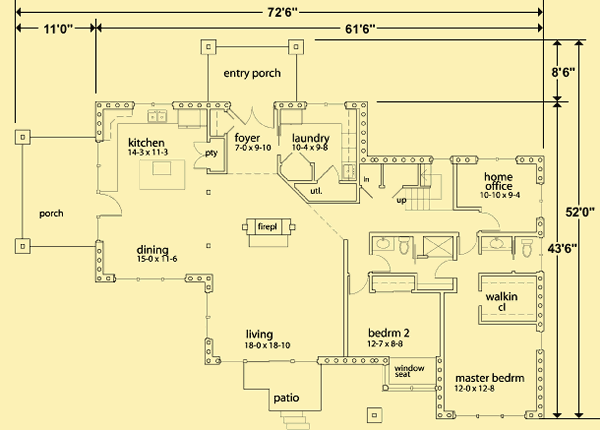bathroom has a small and large sink with shower room: (368, 231, 460, 295)
kitchen has a kitchen bar with cooking range and sink: (95, 98, 212, 204)
laundry room has a washer and dryer: (272, 99, 359, 187)
small bathroom has a small and large sink: (476, 230, 543, 278)
